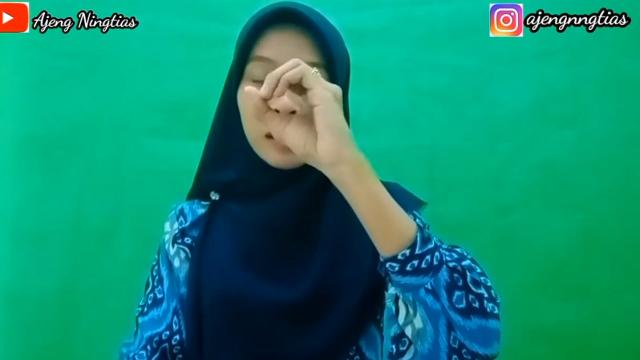O: (242, 57, 356, 169)
